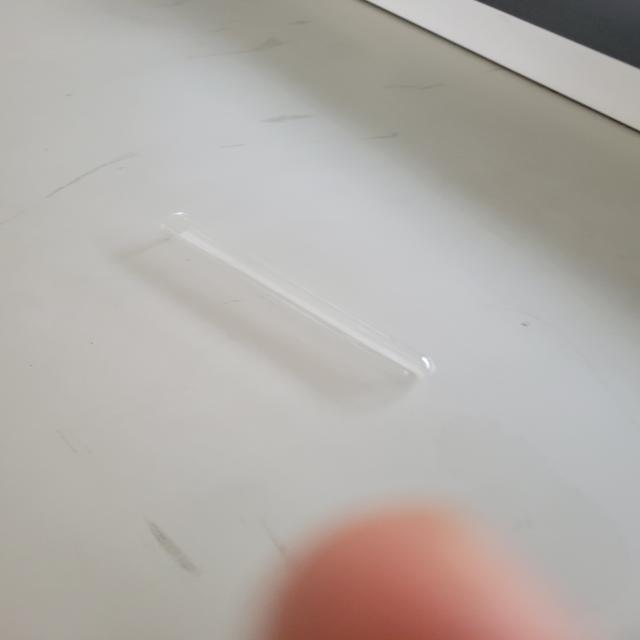Test_Tube: (142, 165, 477, 413)
